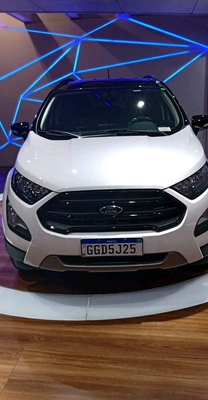Frontal Veiculo: (1, 90, 208, 277)
